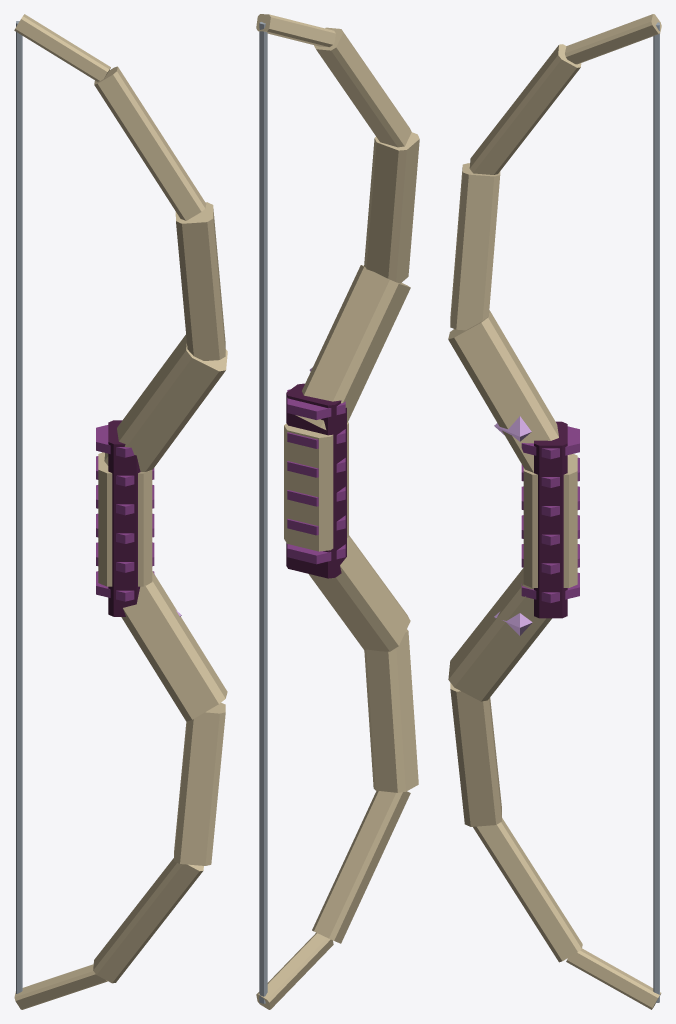
The model's file is prop-archer-bow.glb.
The picture shows the model from 3 angles, left to right: view 1: azimuth 90°, elevation 25°; view 2: azimuth 150°, elevation 25°; view 3: azimuth 270°, elevation 25°; orthographic projection.
Parts seen in each view (by area): view 1: prop-archer-bow.001; view 2: prop-archer-bow.001; view 3: prop-archer-bow.001.
Boxes of the visible parts, x1,y1,x2,y2 form: prop-archer-bow.001: [14, 14, 227, 1009]; prop-archer-bow.001: [256, 14, 419, 1009]; prop-archer-bow.001: [448, 14, 661, 1009].
Bounding box in the file's own units: 0.1094 × 1.14 × 0.222.
Materials: 1 (1 with a texture image).
